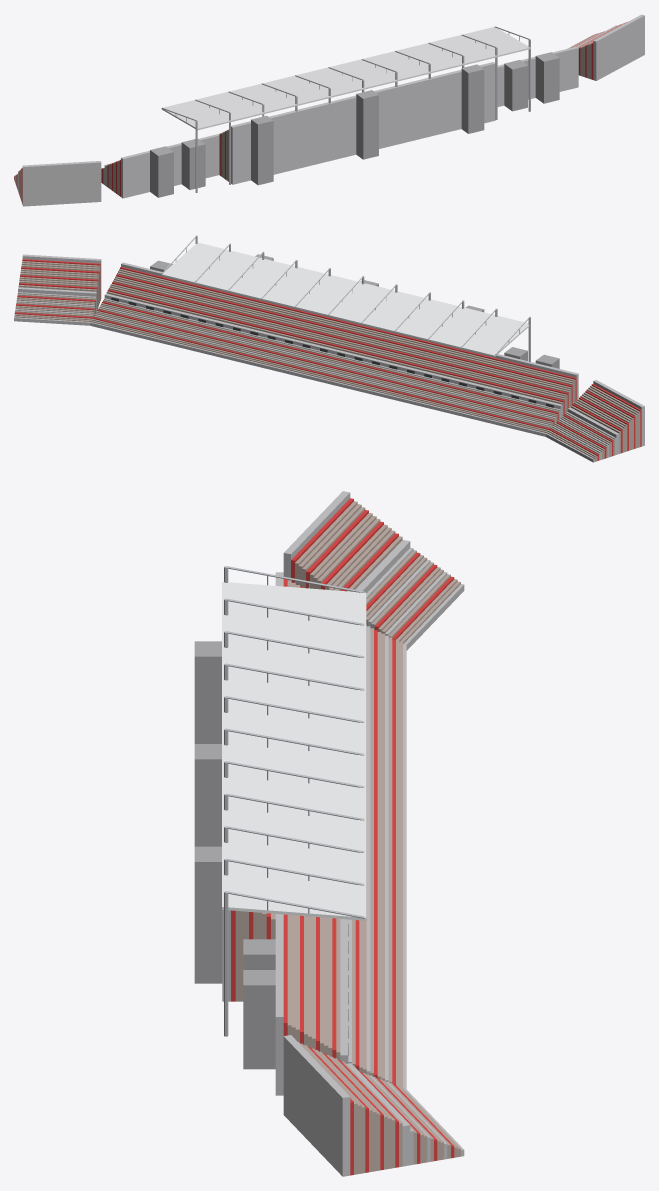
File: motodrom.glb
3 renders of one model, top to bottom at view 1: azimuth 30°, elevation 25°; view 2: azimuth 150°, elevation 25°; view 3: azimuth 270°, elevation 25°, orthographic. The views are drawn at different scales.
Parts seen in each view (by area): view 1: stand, roof, end_L, end_R; view 2: stand, roof, end_R, end_L; view 3: roof, stand, end_R, end_L.
Boxes of the visible parts, x1=… form: stand: x1=101, y1=46, x2=578, y2=198; roof: x1=161, y1=26, x2=530, y2=192; end_L: x1=14, y1=161, x2=101, y2=206; end_R: x1=567, y1=14, x2=644, y2=80; stand: x1=90, y1=254, x2=578, y2=436; roof: x1=161, y1=235, x2=530, y2=361; end_R: x1=14, y1=254, x2=101, y2=325; end_L: x1=546, y1=380, x2=644, y2=462; roof: x1=222, y1=566, x2=366, y2=1036; stand: x1=194, y1=572, x2=406, y2=1095; end_R: x1=283, y1=1035, x2=464, y2=1176; end_L: x1=283, y1=491, x2=464, y2=650.
Size of the model in its own units: 355 by 39.46 by 66.63.
